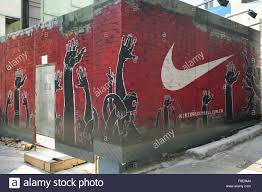nike: (154, 34, 239, 92)
